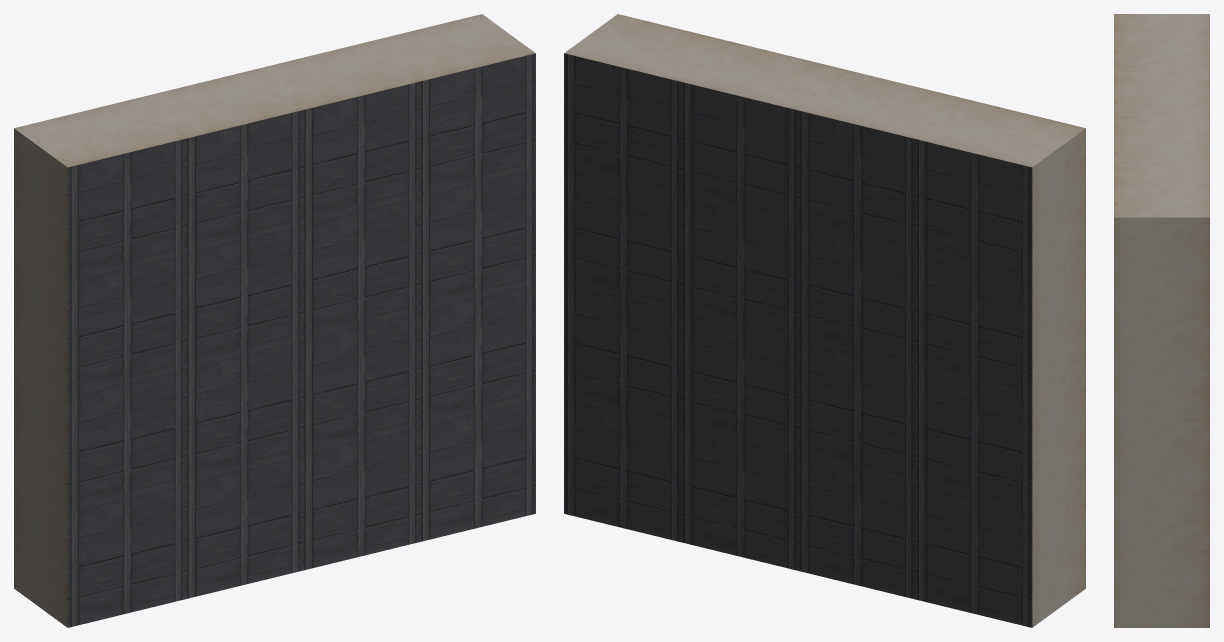
File: 神里屋敷.fbx
3 renders of one model, left to right at view 1: azimuth 30°, elevation 25°; view 2: azimuth 150°, elevation 25°; view 3: azimuth 270°, elevation 25°, orthographic. The views are drawn at different scales.
Parts seen in each view (by area): view 1: Body; view 2: Body; view 3: Body.
Part boxes in pixels (x1,y1,x2,y2): Body: (14, 14, 535, 627); Body: (564, 14, 1085, 627); Body: (1114, 14, 1209, 627).
Bounding box in the file's own units: 435 × 409 × 86.47.
